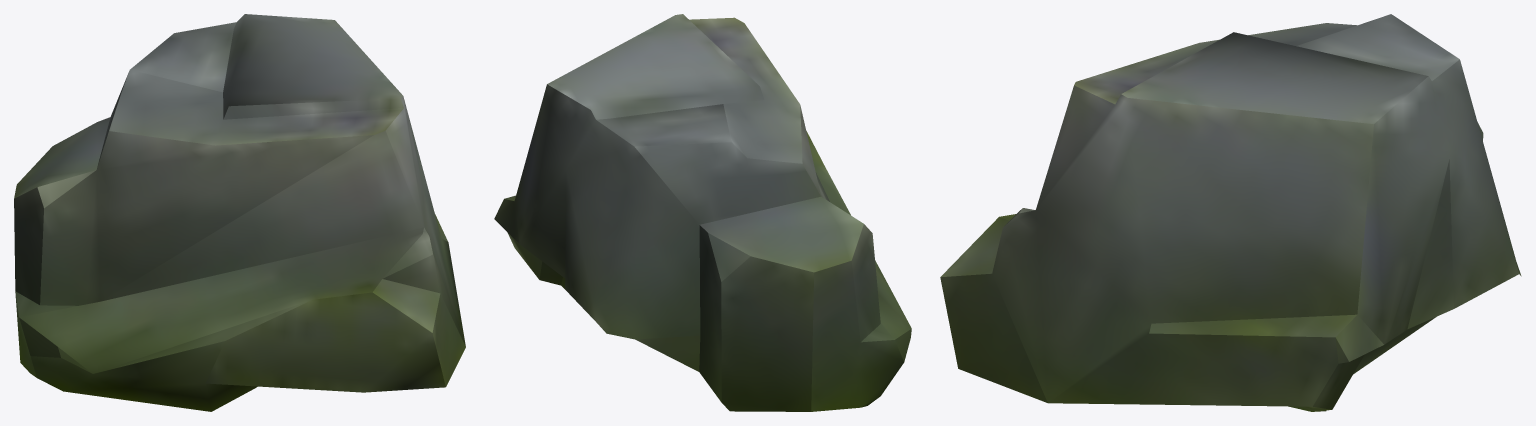
The model's file is rocher-plat.lod1.glb.
The picture shows the model from 3 angles, left to right: view 1: azimuth 30°, elevation 25°; view 2: azimuth 150°, elevation 25°; view 3: azimuth 270°, elevation 25°; orthographic projection. The views are drawn at different scales.
Parts seen in each view (by area): view 1: Rock_Medium_3; view 2: Rock_Medium_3; view 3: Rock_Medium_3.
Boxes of the visible parts, <box> form: Rock_Medium_3: <box>14,14,465,411</box>; Rock_Medium_3: <box>494,14,911,411</box>; Rock_Medium_3: <box>940,14,1521,411</box>.
Size of the model in its own units: 3.4 by 2.28 by 3.48.
1 material, 1 textured.
